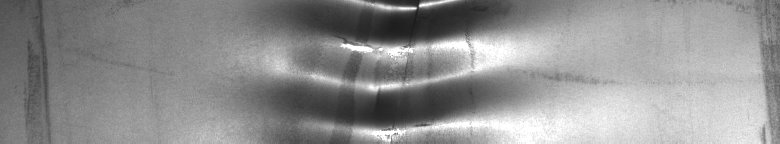ke: (310, 4, 471, 136)
